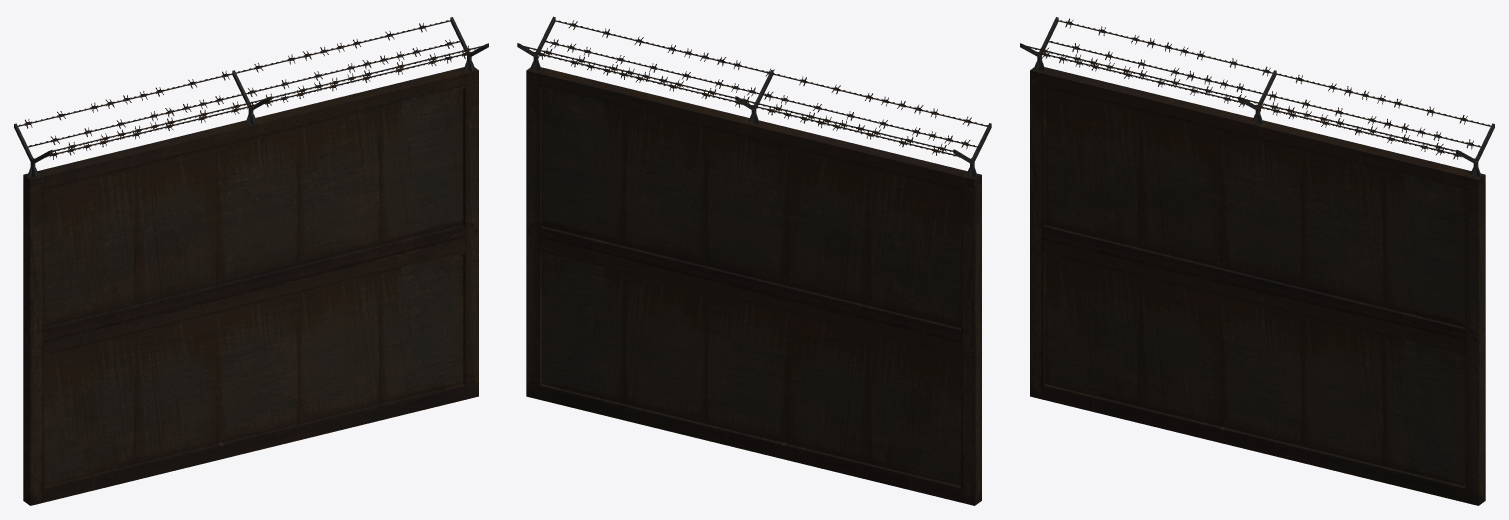
Rendered from metal_fence_hr_2.obj.
3 views of the same model, side by side, from view 1: azimuth 30°, elevation 25°; view 2: azimuth 150°, elevation 25°; view 3: azimuth 330°, elevation 25° (orthographic).
Parts seen in each view (by area): view 1: metal_fence_hr_2; view 2: metal_fence_hr_2; view 3: metal_fence_hr_2.
Part boxes in pixels (x1=…): metal_fence_hr_2: x1=14, y1=17, x2=488, y2=505; metal_fence_hr_2: x1=517, y1=16, x2=991, y2=505; metal_fence_hr_2: x1=1020, y1=17, x2=1494, y2=505.
Size of the model in its own units: 3.6 by 2.82 by 0.5551.
